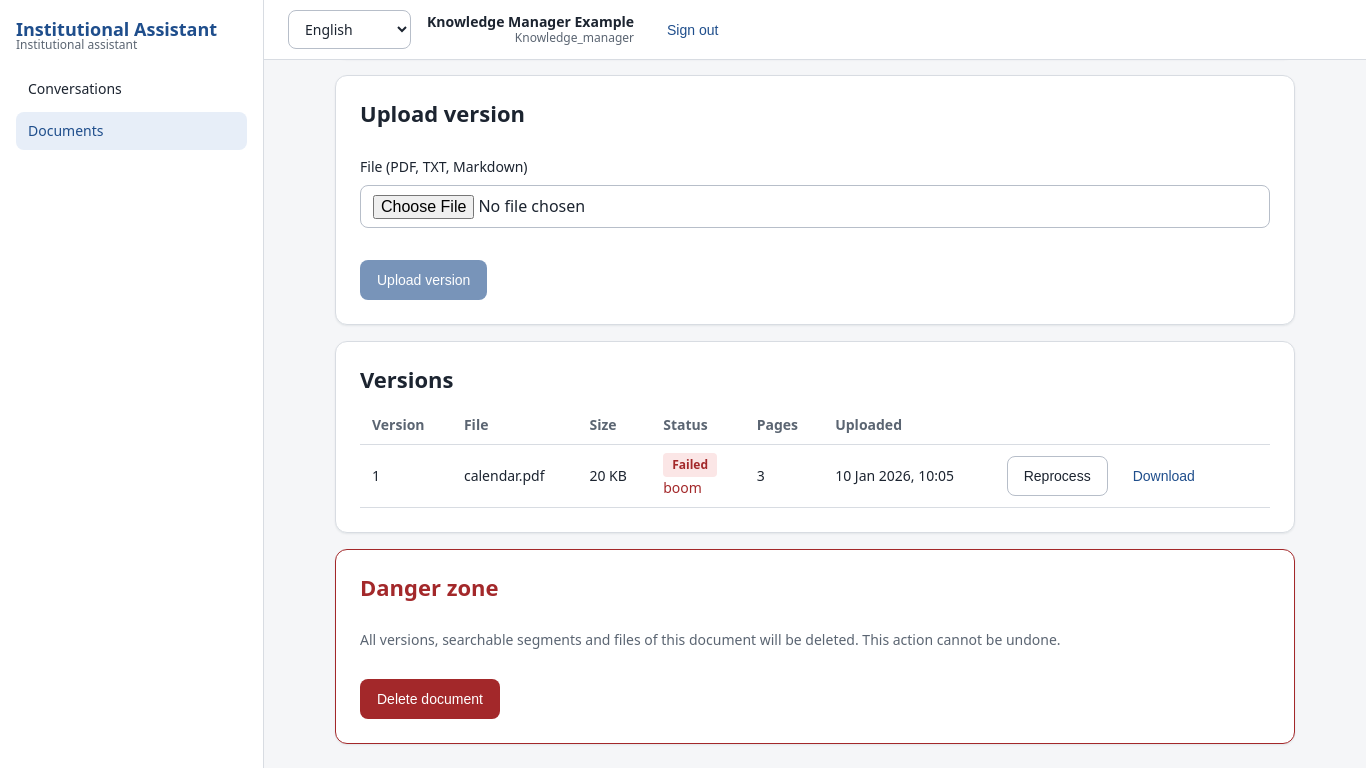
Test: documents admin area › shows a safe conflict message when reprocessing a referenced version
(page scrolled)
Click the button "Reprocess" at [1057, 476], box [1007,456,1108,496]
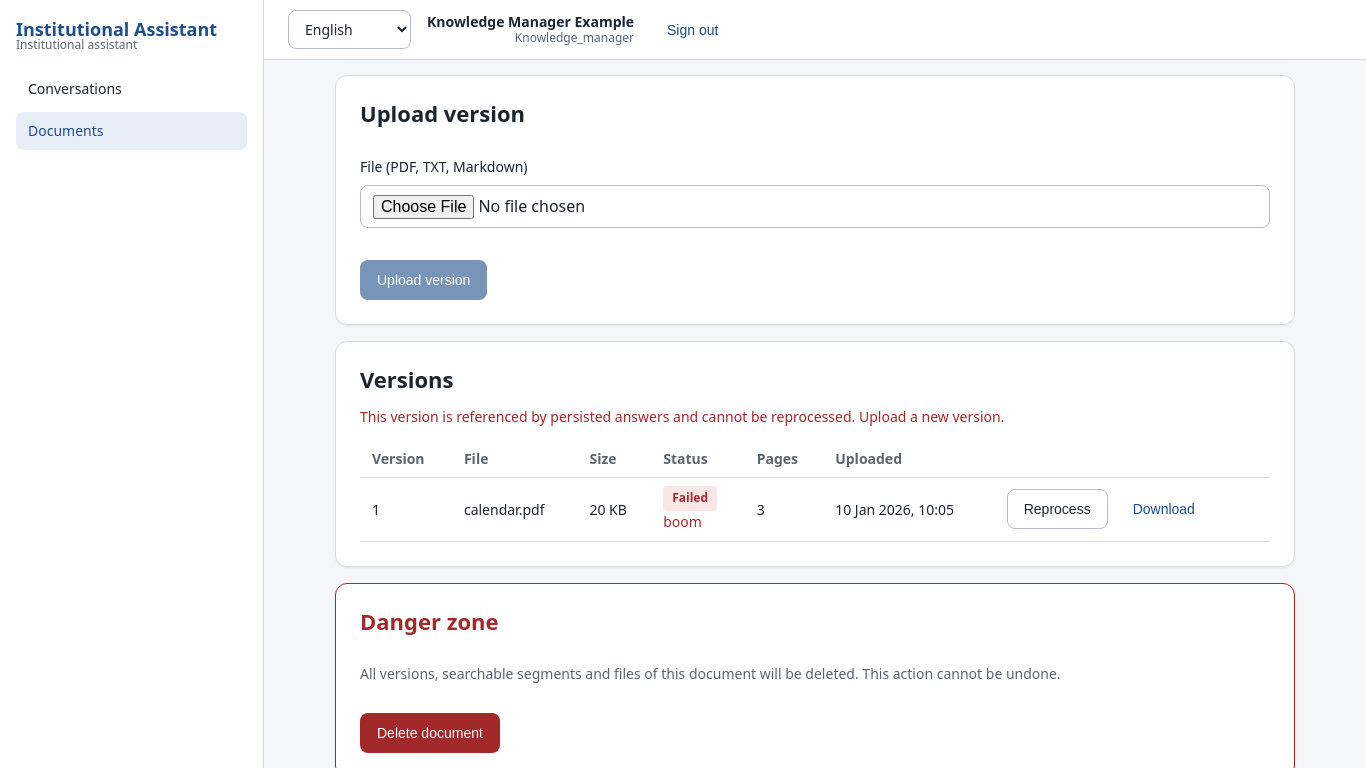
Expected: the message shows "This version is referenced by persisted answers and cannot be reprocessed. Upload a new version.", [360,407,1004,426]
